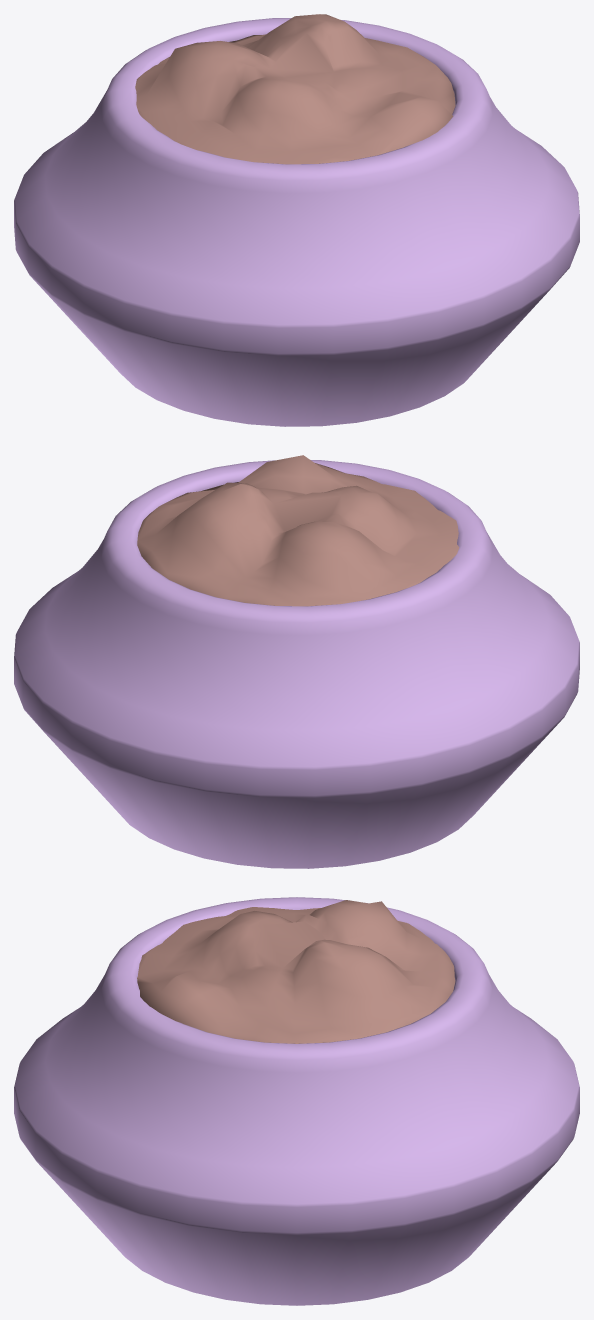
Rendered from pot_purple.glb.
3 views of the same model, one above another, from view 1: azimuth 30°, elevation 25°; view 2: azimuth 150°, elevation 25°; view 3: azimuth 270°, elevation 25° (orthographic).
Parts seen in each view (by area): view 1: 圆环.004, 泥土.005; view 2: 圆环.004, 泥土.005; view 3: 圆环.004, 泥土.005.
Boxes of the visible parts, x1,y1,x2,y2 form: 圆环.004: [14, 18, 579, 426]; 泥土.005: [135, 14, 455, 164]; 圆环.004: [14, 460, 579, 868]; 泥土.005: [137, 455, 459, 606]; 圆环.004: [14, 897, 579, 1305]; 泥土.005: [137, 900, 455, 1043].
Size of the model in its own units: 0.8458 by 0.5033 by 0.8458.
